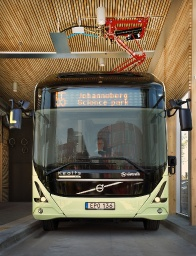bus: (31, 68, 173, 236)
